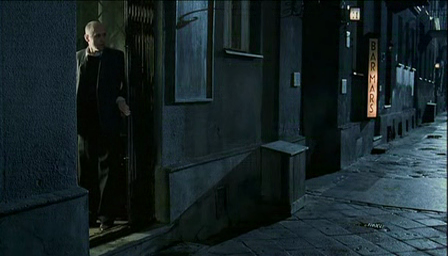face: (90, 29, 107, 52)
ls: (1, 1, 448, 256)
person: (75, 20, 129, 231)
